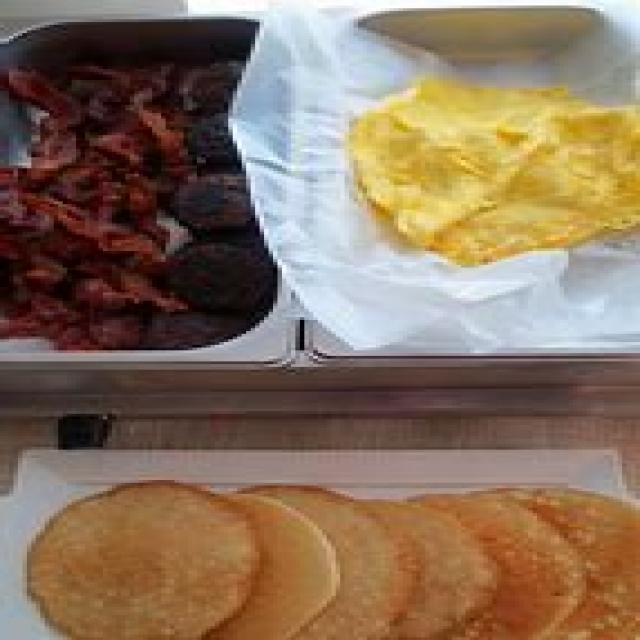Omelette: (342, 60, 639, 272)
Pancakes: (13, 462, 637, 640)
